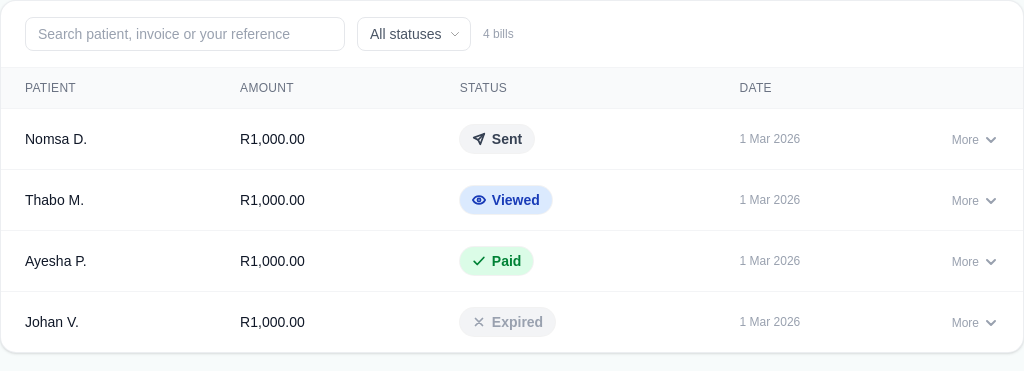
Scenario: filtering by status › narrows the count line
Step 1. Select "Paid (1)" in the dropdown with test id "bills-status-filter" → coordinates (414, 34), box 357,17 -> 471,51
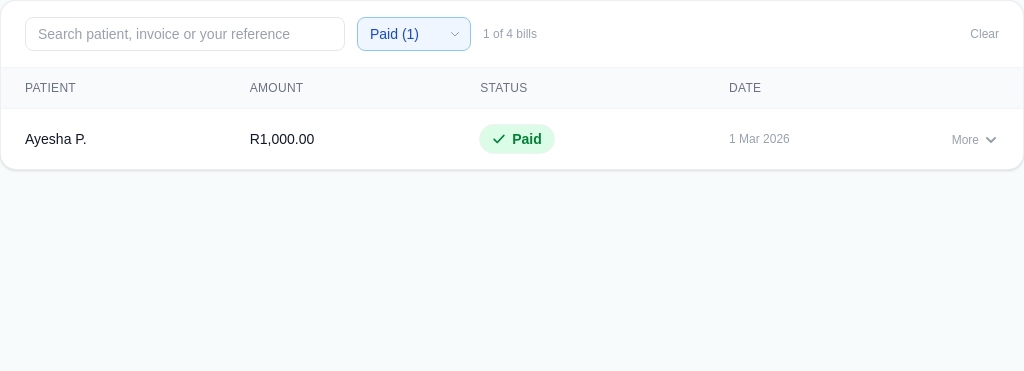
Expected: the text with test id "bills-count" reads "1 of 4 bills", 483,27 -> 537,41
